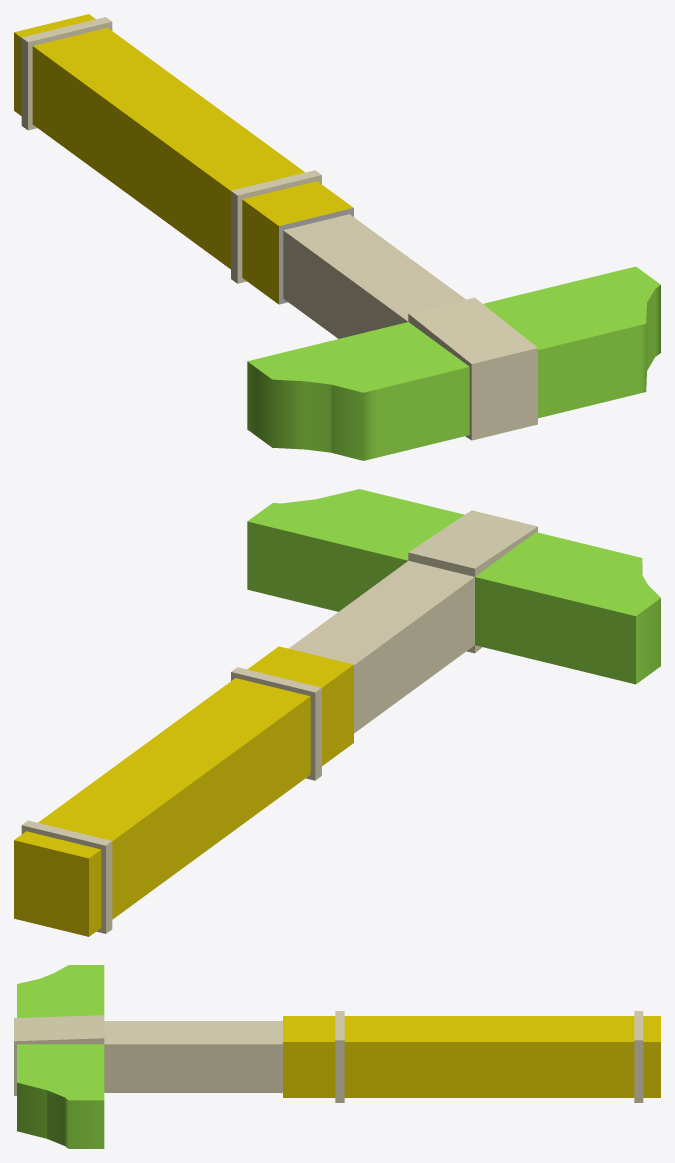
The model's file is Marteau.fbx.
3 renders of one model, top to bottom at view 1: azimuth 30°, elevation 25°; view 2: azimuth 150°, elevation 25°; view 3: azimuth 270°, elevation 25°, orthographic. The views are drawn at different scales.
Visible parts, largest first — view 1: outils03:pCube2; view 2: outils03:pCube2; view 3: outils03:pCube2.
Part boxes in pixels (x1,y1,x2,y2): outils03:pCube2: [14, 14, 660, 460]; outils03:pCube2: [14, 489, 660, 936]; outils03:pCube2: [14, 965, 660, 1148].
Size of the model in its own units: 1.04 by 0.225 by 2.1.
